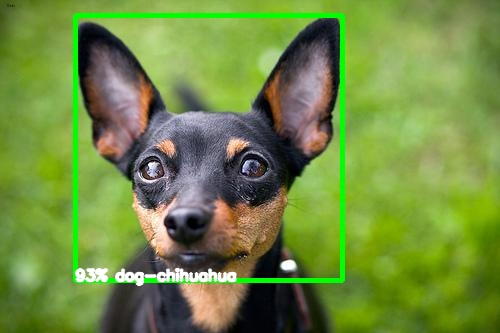dog-miniature_pinscher: (74, 13, 341, 280)
